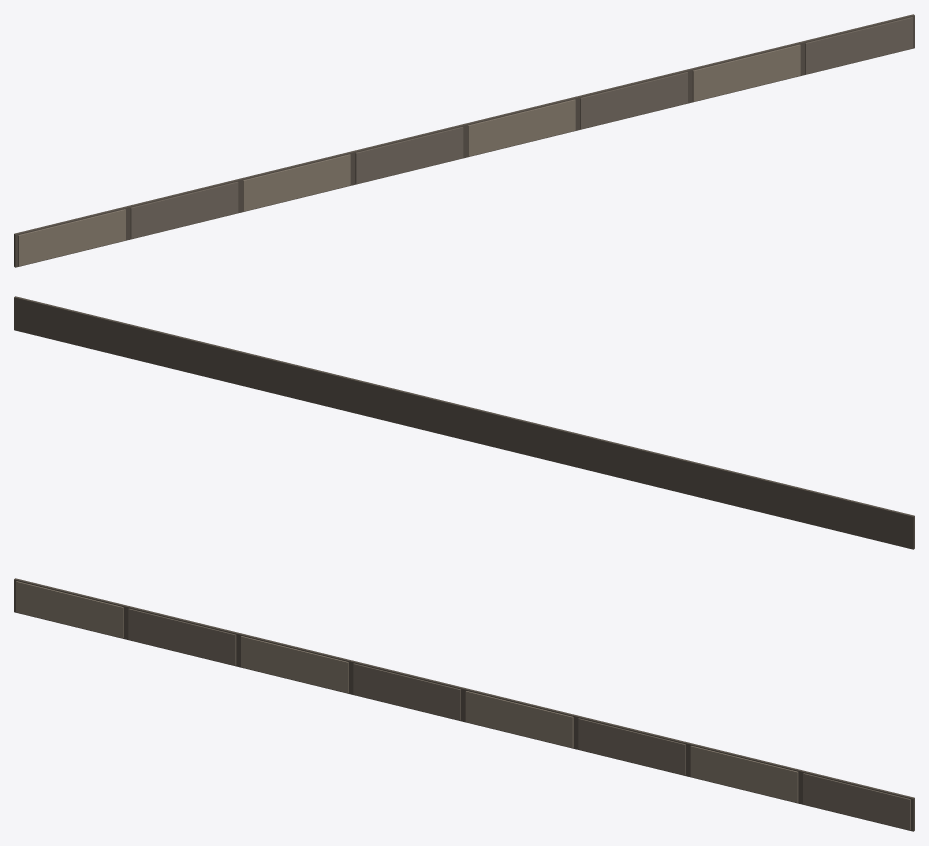
The model's file is insulation_panel.glb.
3 views of the same model, one above another, from view 1: azimuth 30°, elevation 25°; view 2: azimuth 150°, elevation 25°; view 3: azimuth 330°, elevation 25° (orthographic).
Parts seen in each view (by area): view 1: insulation_panel; view 2: insulation_panel; view 3: insulation_panel.
Part boxes in pixels (bbox=[...]): insulation_panel: bbox=[14, 14, 914, 267]; insulation_panel: bbox=[14, 296, 914, 549]; insulation_panel: bbox=[14, 578, 914, 831].
Size of the model in its own units: 12 by 0.42 by 0.05.
